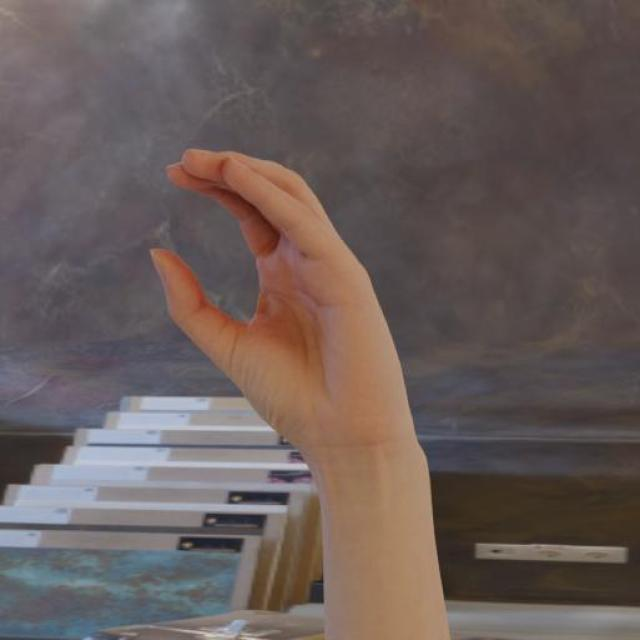C: (148, 140, 405, 454)
